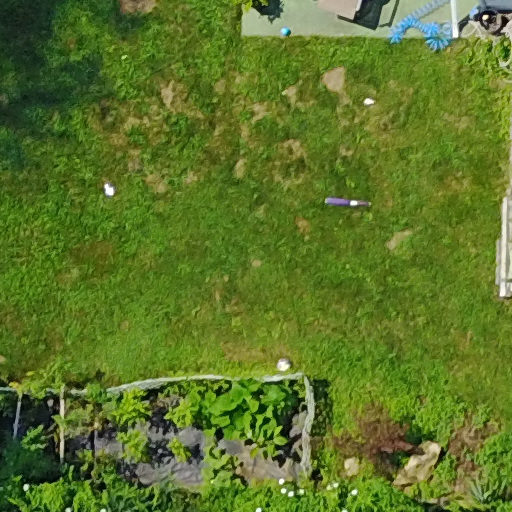pot: (476, 7, 505, 39)
